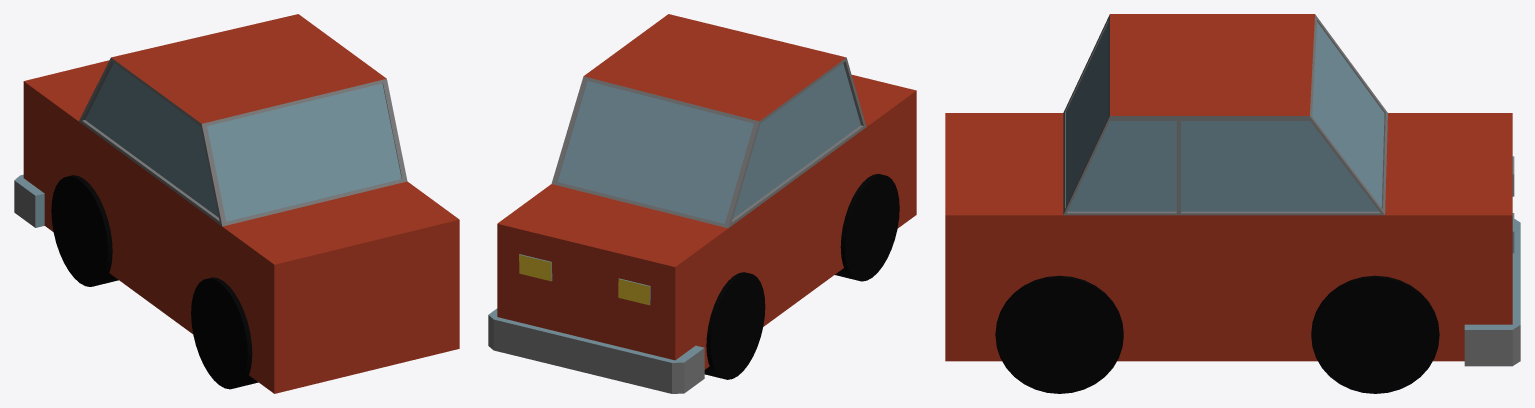
Rendered from Car.fbx.
3 renders of one model, left to right at view 1: azimuth 30°, elevation 25°; view 2: azimuth 150°, elevation 25°; view 3: azimuth 270°, elevation 25°, orthographic. The views are drawn at different scales.
Parts seen in each view (by area): view 1: Cube, Cylinder, Cylinder.001; view 2: Cube, Cylinder.001, Cylinder; view 3: Cube, Cylinder, Cylinder.001.
Part boxes in pixels (x1,y1,x2,y2): Cube: [14, 14, 459, 393]; Cylinder: [51, 175, 118, 286]; Cylinder.001: [191, 277, 258, 389]; Cube: [488, 14, 916, 393]; Cylinder.001: [835, 174, 899, 281]; Cylinder: [704, 272, 765, 379]; Cube: [945, 14, 1520, 366]; Cylinder: [1311, 275, 1439, 393]; Cylinder.001: [995, 275, 1123, 393].
Bounding box in the file's own units: 330 × 378 × 714.
